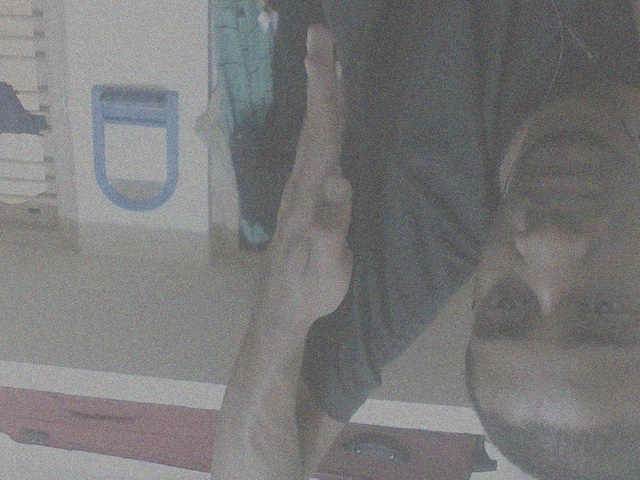hand: (267, 22, 357, 322)
